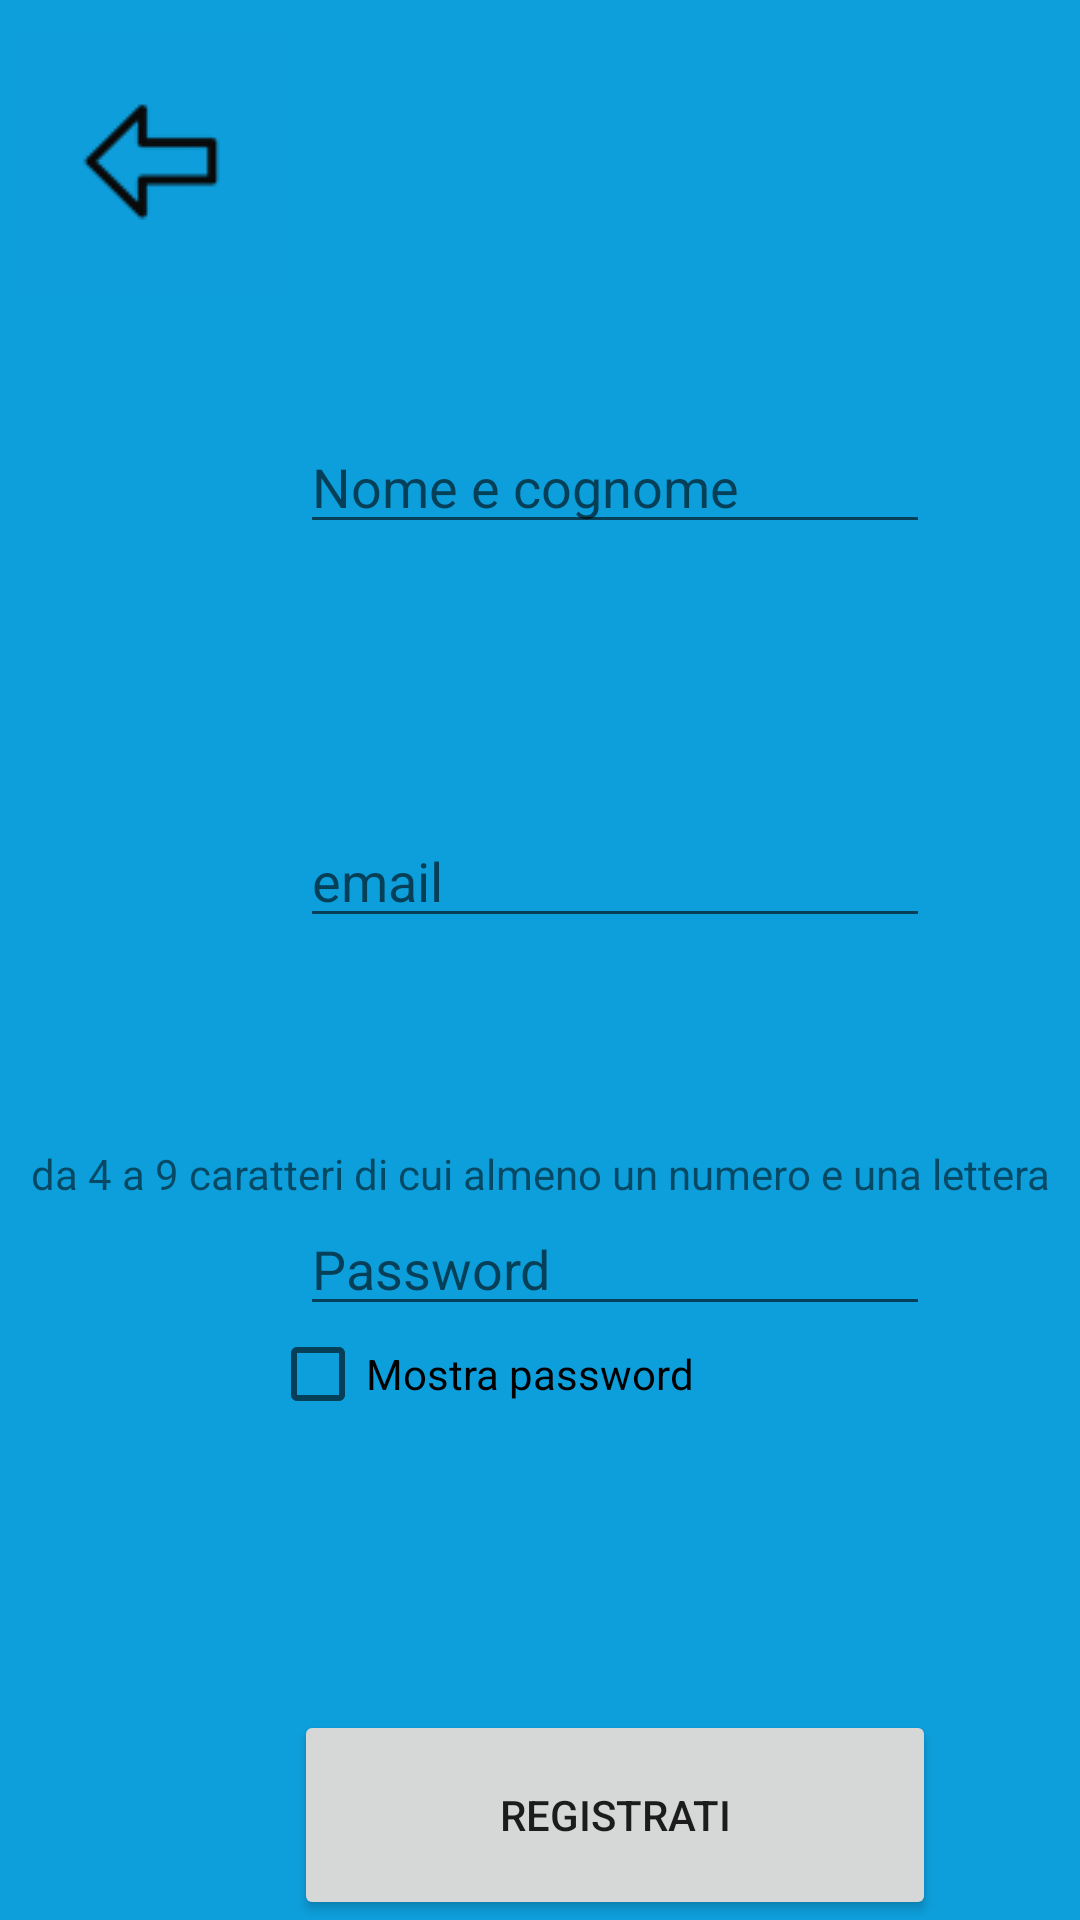

Point at icon controls on the screen. Image size 1080*1920, points as point (x, y).
freccia: point (151, 162)
